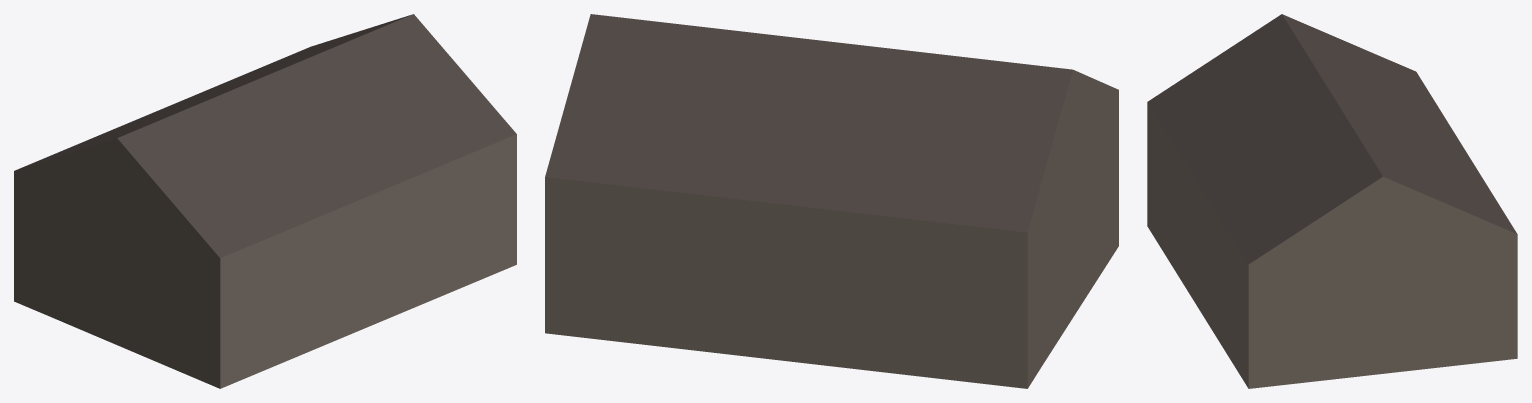
3 renders of one model, left to right at view 1: azimuth 30°, elevation 25°; view 2: azimuth 150°, elevation 25°; view 3: azimuth 270°, elevation 25°, orthographic. The views are drawn at different scales.
Parts seen in each view (by area): view 1: HP-w1198723272; view 2: HP-w1198723272; view 3: HP-w1198723272.
Boxes of the visible parts, box(x1,y1,x2,y2) form: HP-w1198723272: box(14, 14, 516, 388); HP-w1198723272: box(545, 14, 1118, 388); HP-w1198723272: box(1147, 14, 1517, 388).
Size of the model in its own units: 19.94 by 9.51 by 16.18.
